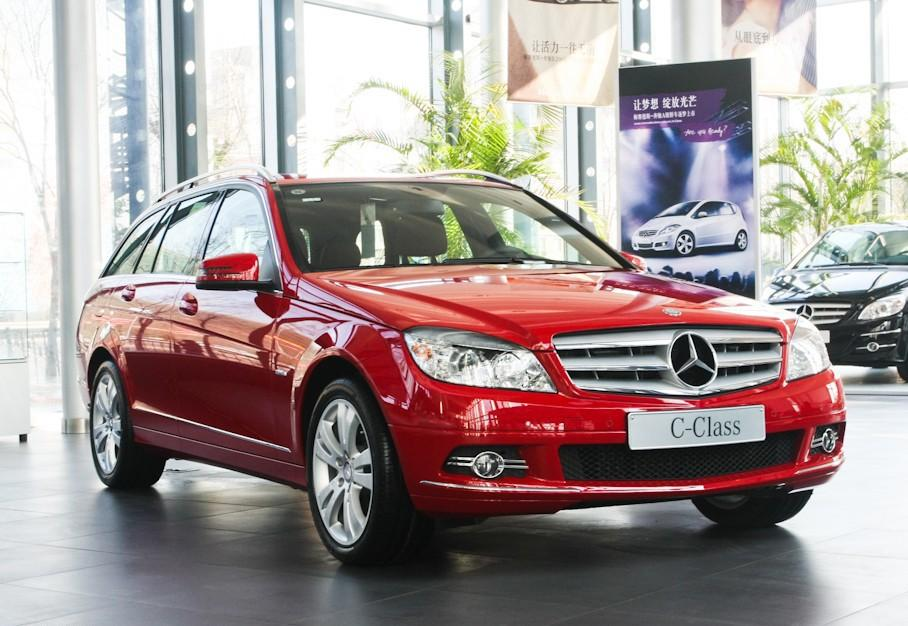Wagon: (74, 175, 848, 567)
